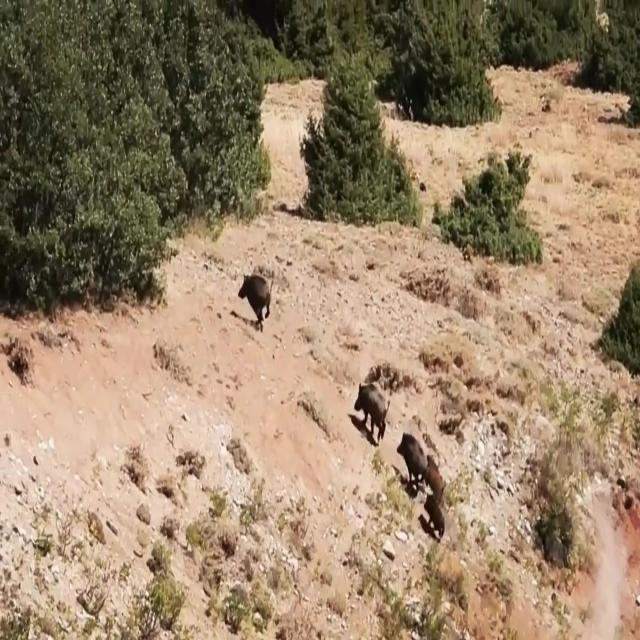pig: (226, 259, 280, 327)
